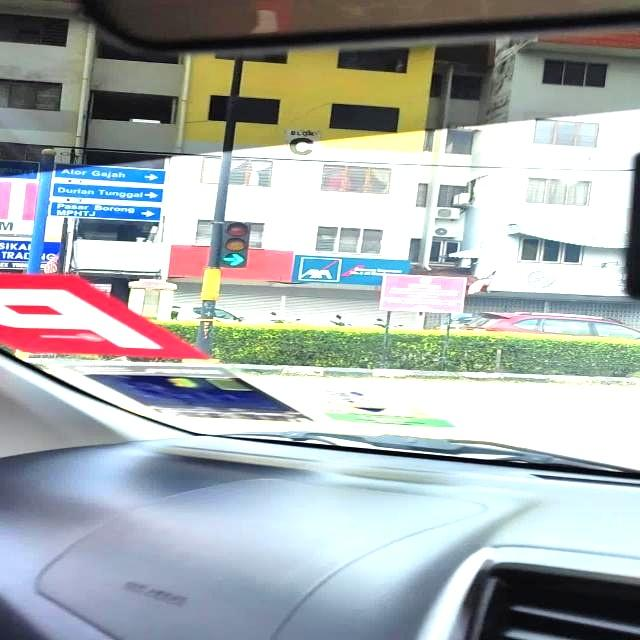Green: (216, 222, 252, 266)
